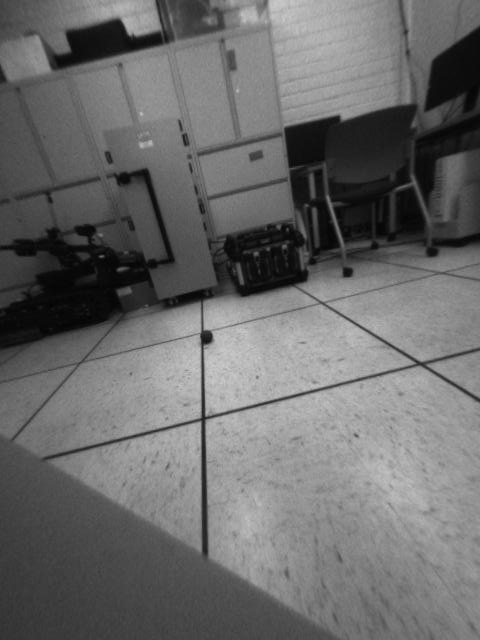dogtoy: (193, 321, 222, 353)
